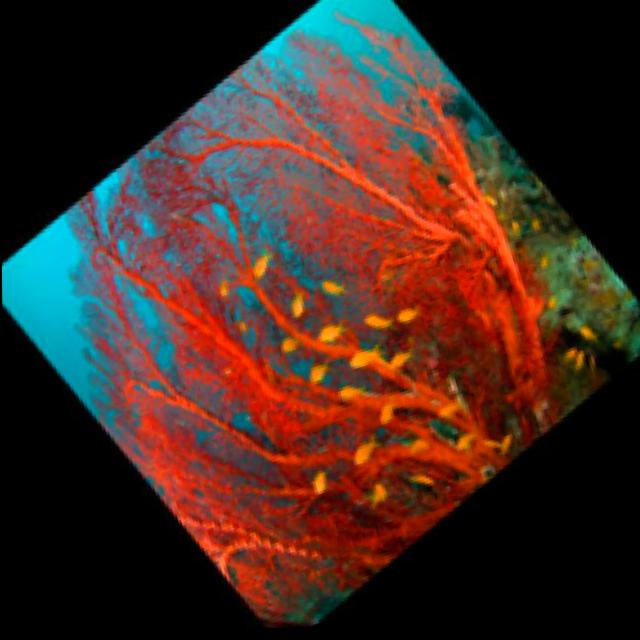Healthy Coral: (71, 48, 580, 607)
